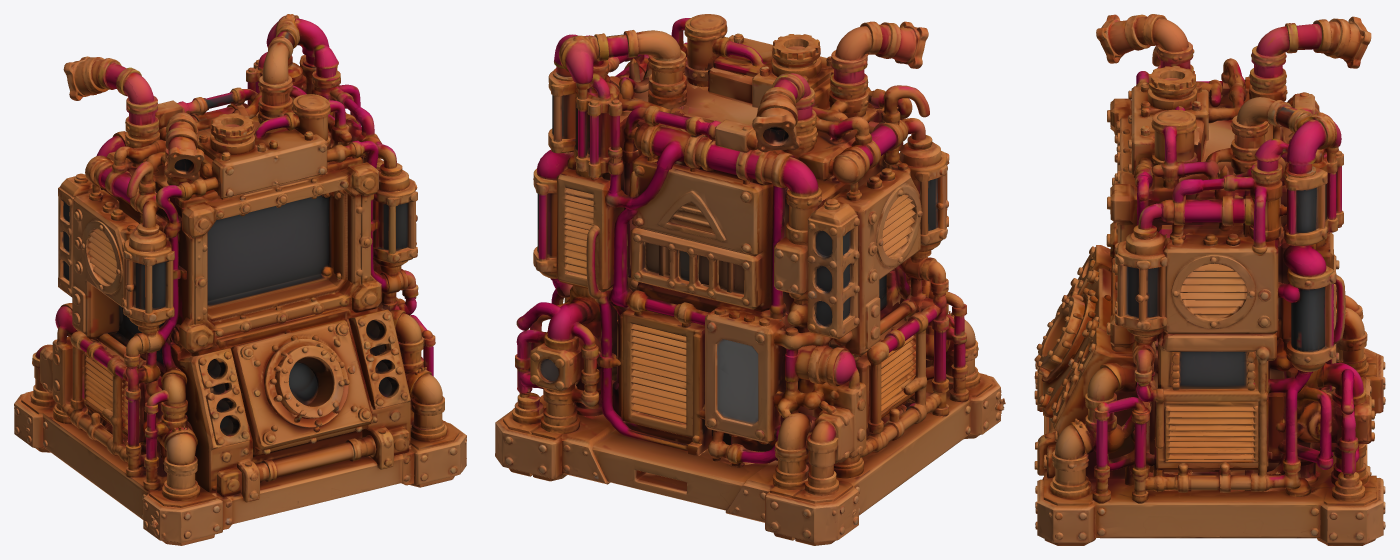
3 renders of one model, left to right at view 1: azimuth 30°, elevation 25°; view 2: azimuth 150°, elevation 25°; view 3: azimuth 270°, elevation 25°, orthographic. The views are drawn at different scales.
Visible parts, largest first — view 1: texture_pbr_v128; view 2: texture_pbr_v128; view 3: texture_pbr_v128.
Part boxes in pixels (bbox=[...]): texture_pbr_v128: bbox=[14, 14, 466, 545]; texture_pbr_v128: bbox=[495, 14, 1005, 545]; texture_pbr_v128: bbox=[1034, 14, 1385, 545].
Size of the model in its own units: 0.7104 by 0.8245 by 0.6388.
1 material, 1 textured.
